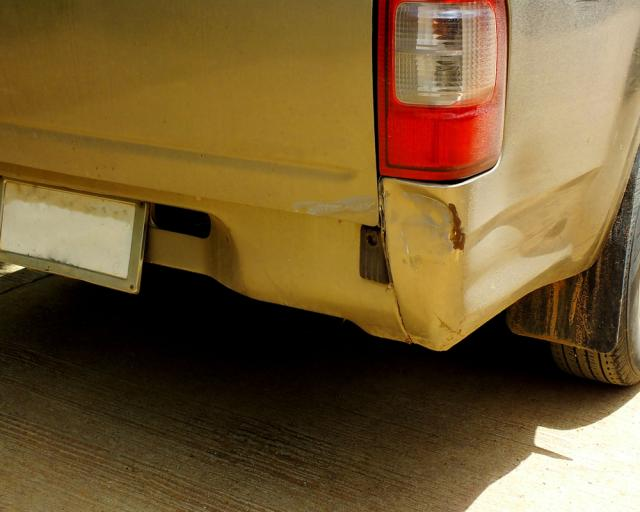dent: (383, 181, 587, 341)
scratch: (290, 192, 373, 218)
